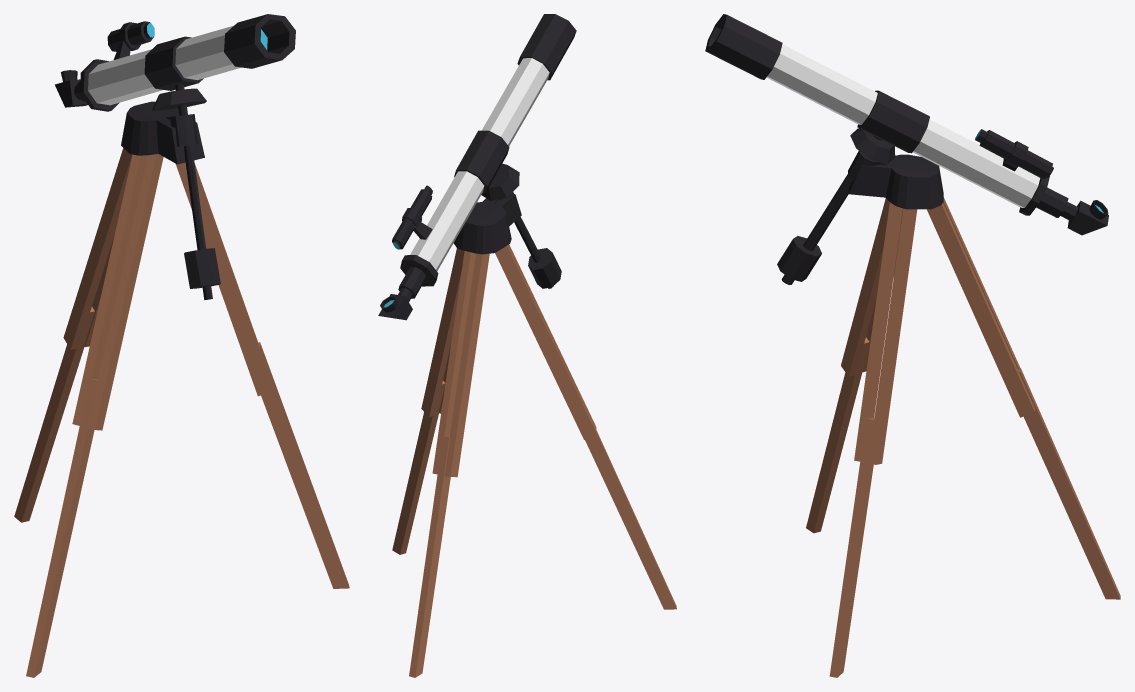
Rendered from telescope_free_model.glb.
3 renders of one model, left to right at view 1: azimuth 30°, elevation 25°; view 2: azimuth 150°, elevation 25°; view 3: azimuth 270°, elevation 25°, orthographic. The views are drawn at different scales.
Parts seen in each view (by area): view 1: Telescope; view 2: Telescope; view 3: Telescope.
Part boxes in pixels (box(x1,y1,x2,y2)): Telescope: box(14, 14, 349, 677); Telescope: box(378, 14, 676, 677); Telescope: box(705, 14, 1120, 677).
Size of the model in its own units: 0.5127 by 0.9454 by 0.5937.
1 material, 1 textured.
